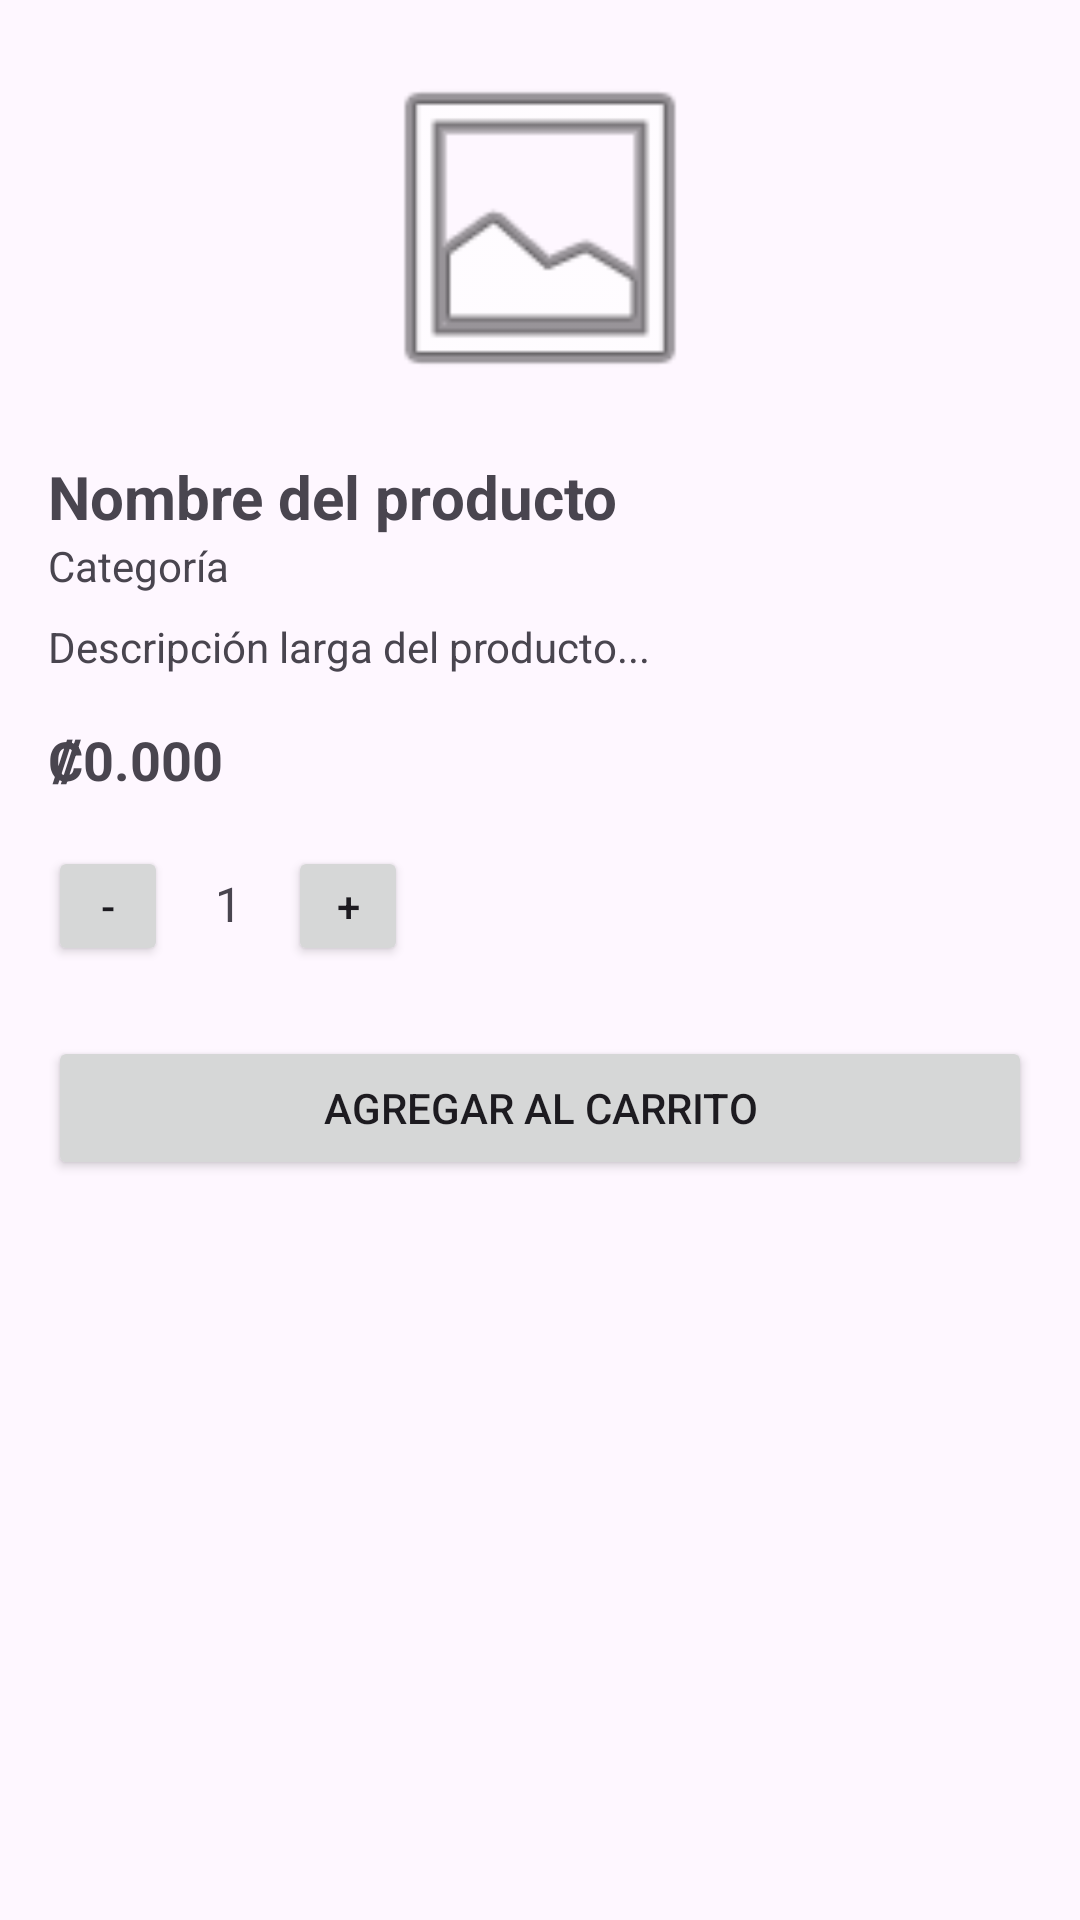

Screen size 1080x1920. Icon name, then its center in pixels as [x,y]:
Imagen producto: [540,228]
